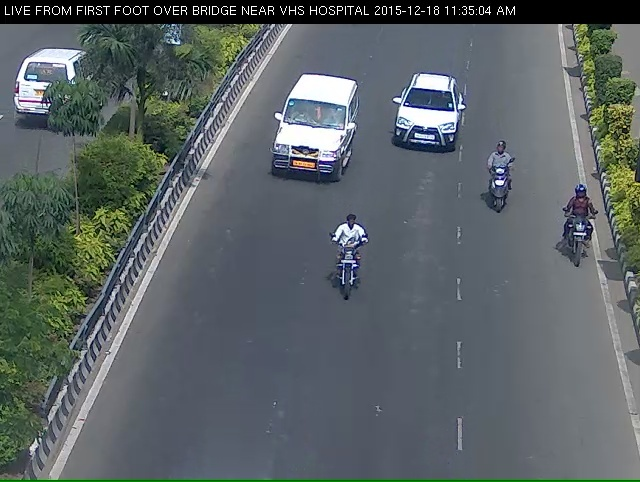Car: (262, 75, 341, 204), (379, 70, 468, 177)
Person: (557, 198, 607, 290), (326, 231, 370, 333), (483, 148, 523, 229)
